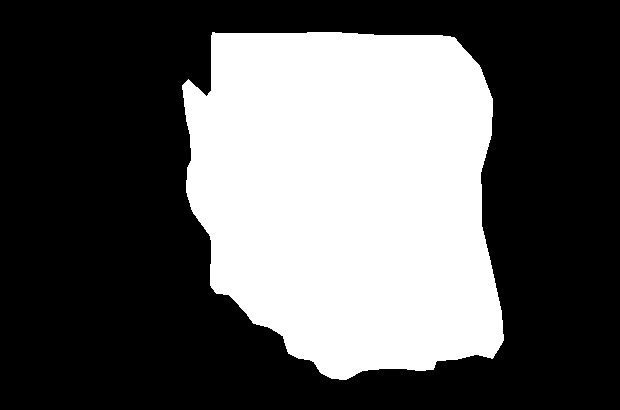type2: (179, 31, 505, 381)
